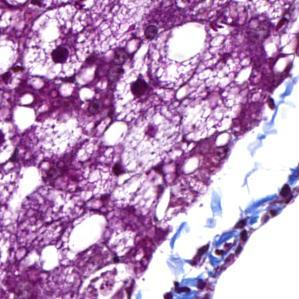ballooning: (109, 19, 208, 123), (24, 5, 116, 82)
